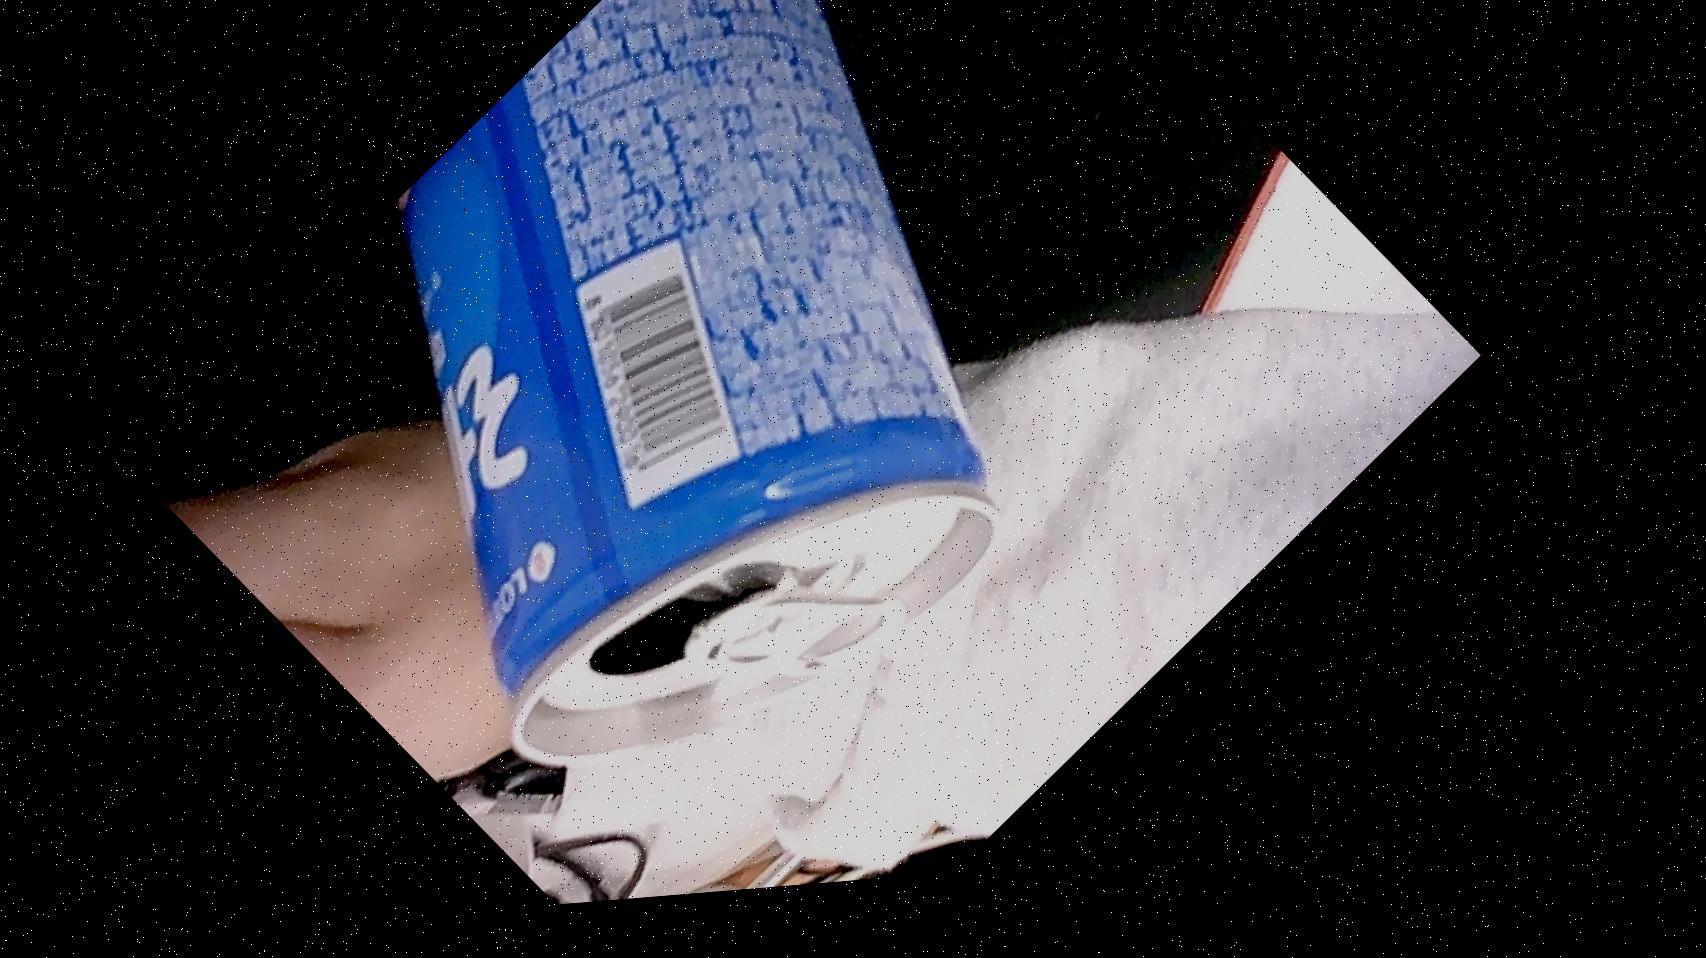letsbe: (149, 0, 1272, 937)
